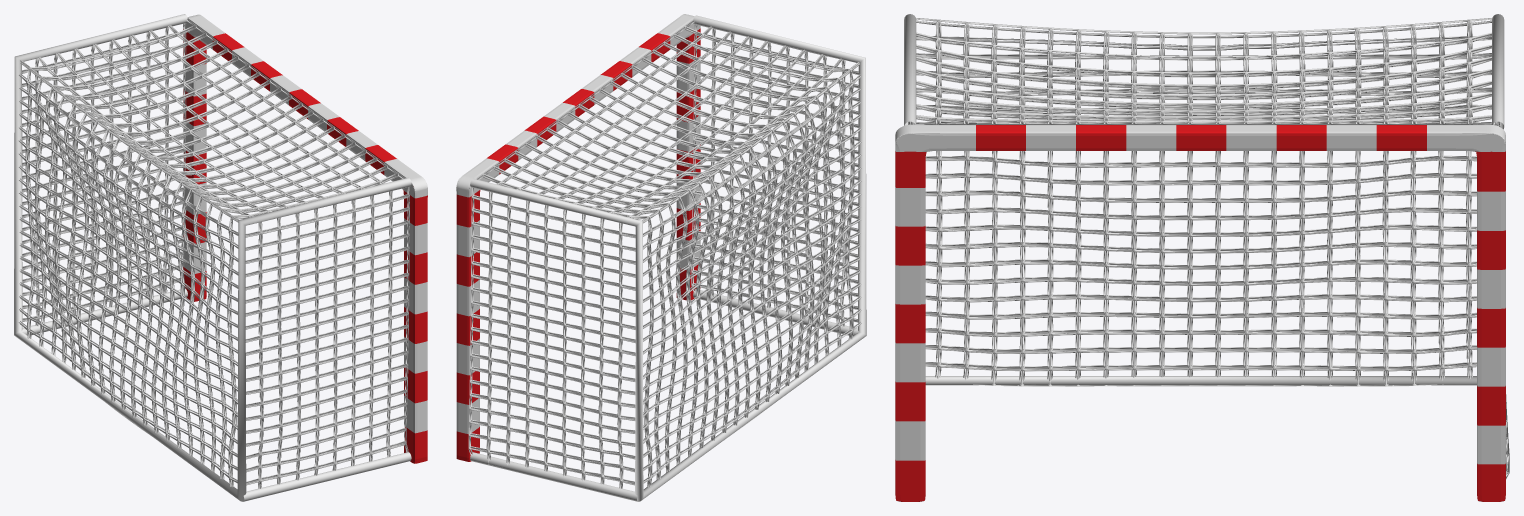
File: 5v5+Futsal.glb
3 views of the same model, side by side, from view 1: azimuth 30°, elevation 25°; view 2: azimuth 150°, elevation 25°; view 3: azimuth 270°, elevation 25° (orthographic). The views are drawn at different scales.
Parts seen in each view (by area): view 1: Cube.006, Cube.002, Cube.007; view 2: Cube.006, Cube.002, Cube.007; view 3: Cube.006, Cube.002, Cube.007.
Boxes of the visible parts, x1,y1,x2,y2 form: Cube.006: (18,19,409,488); Cube.002: (183,14,427,463); Cube.007: (14,14,411,501); Cube.006: (468,20,861,489); Cube.002: (456,14,700,461); Cube.007: (470,15,866,501); Cube.006: (908,18,1509,478); Cube.002: (895,124,1505,501); Cube.007: (904,14,1504,385).
Bounding box in the file's own units: 1.43 × 2.02 × 3.02.
